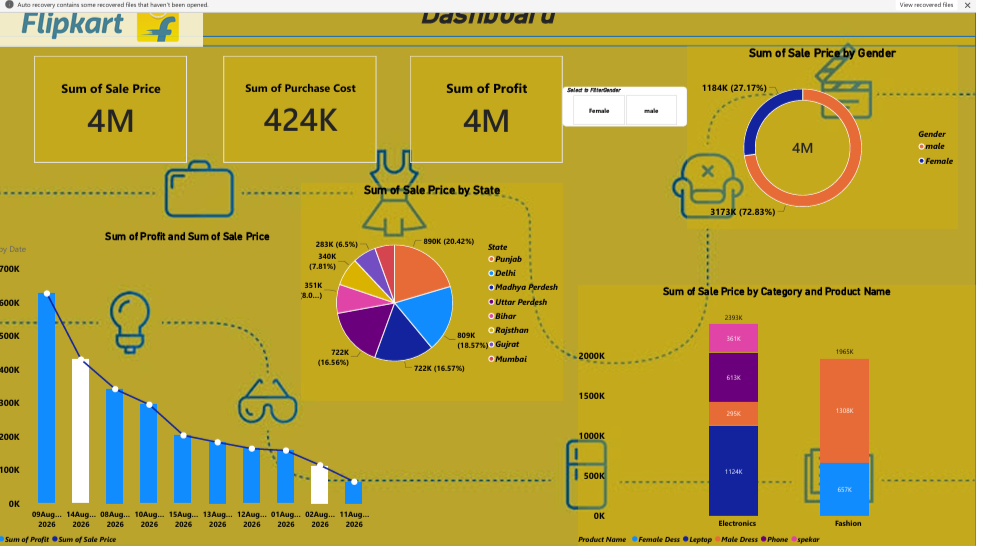

The page's visual inventory and layout, read from the dashboard file:
{"tool":"powerbi","page":{"name":"Page 1","canvas":[1920,1080],"ordinal":0},"visuals":[{"type":"image","box":[0,0,1920,1080.9],"z":0},{"type":"shape","box":[0,0,1920,1080.9],"z":1000},{"type":"shape","title":"Dashboard","box":[0,0,1920,98.3],"z":2000},{"type":"image","box":[0,0,400.6,98.3],"z":3000},{"type":"cardVisual","fields":{"Data":["Sum(Sheet1.Sale Price)"]},"box":[70.6,118.4,299.8,209.1],"z":4000},{"type":"cardVisual","fields":{"Data":["Sum(Sheet1.Purchase Cost)"]},"box":[443.5,118.4,299.8,209.1],"z":5000},{"type":"cardVisual","fields":{"Data":["Sum(Sheet1.Profit)"]},"box":[808.8,118.4,299.8,209.1],"z":6000},{"type":"lineClusteredColumnComboChart","fields":{"Category":["Sheet1.Date"],"Y":["Sum(Sheet1.Profit)"],"Y2":["Sum(Sheet1.Sale Price)"]},"box":[0,461.1,743.3,619.8],"z":7000},{"type":"columnChart","fields":{"Category":["Sheet1.Category"],"Series":["Sheet1.Product Name "],"Y":["Sum(Sheet1.Sale Price)"]},"box":[1138.9,569.4,781.1,511.5],"z":8000},{"type":"donutChart","fields":{"Category":["Sheet1.Gender"],"Y":["Sum(Sheet1.Sale Price)"]},"box":[1353.1,98.3,531.7,357.8],"z":9000},{"type":"pieChart","fields":{"Category":["Sheet1.State "],"Y":["Sum(Sheet1.Sale Price)"]},"box":[594.6,367.9,514,428.3],"z":9001},{"type":"slicer","fields":{"Values":["Sheet1.Gender"]},"box":[1108.3,177.8,244.4,77.8],"z":9002}]}

Visuals, with their boxes on the page's 1920x1080 design canvas (x1, y1, x2, y2). These are canvas units, not pixel positions in the 984x553 screenshot, which may show the page scaled, cropped or inside an application window:
image: 0:0:1920:1081
shape: 0:0:1920:1081
"Dashboard" shape: 0:0:1920:98
image: 0:0:401:98
cardVisual - Sum(Sheet1.Sale Price): 71:118:370:328
cardVisual - Sum(Sheet1.Purchase Cost): 444:118:743:328
cardVisual - Sum(Sheet1.Profit): 809:118:1109:328
lineClusteredColumnComboChart - Sheet1.Date x Sum(Sheet1.Profit): 0:461:743:1081
columnChart - Sheet1.Category x Sheet1.Product Name : 1139:569:1920:1081
donutChart - Sheet1.Gender x Sum(Sheet1.Sale Price): 1353:98:1885:456
pieChart - Sheet1.State  x Sum(Sheet1.Sale Price): 595:368:1109:796
slicer - Sheet1.Gender: 1108:178:1353:256
